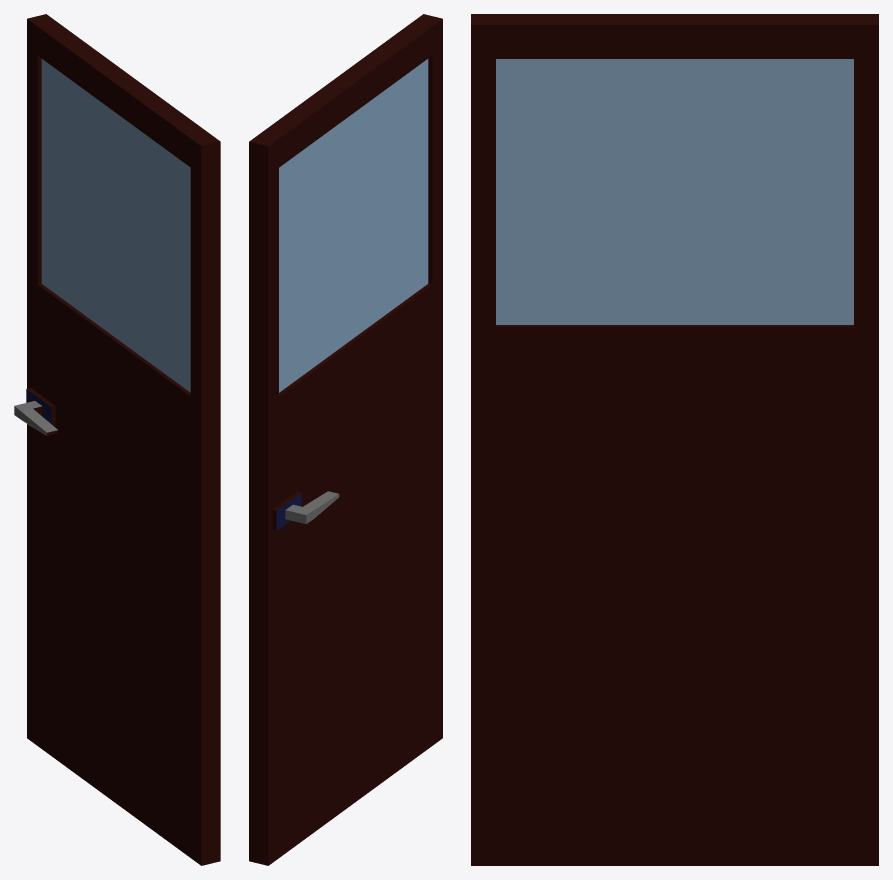
File: Door.fbx
3 views of the same model, side by side, from view 1: azimuth 30°, elevation 25°; view 2: azimuth 150°, elevation 25°; view 3: azimuth 270°, elevation 25° (orthographic). The views are drawn at different scales.
Visible parts, largest first — view 1: Door.001; view 2: Door.001; view 3: Door.001.
Boxes of the visible parts, x1,y1,x2,y2 form: Door.001: [14, 14, 220, 865]; Door.001: [249, 14, 442, 865]; Door.001: [471, 14, 878, 865].
Size of the model in its own units: 2.37 by 36.5 by 16.04.
